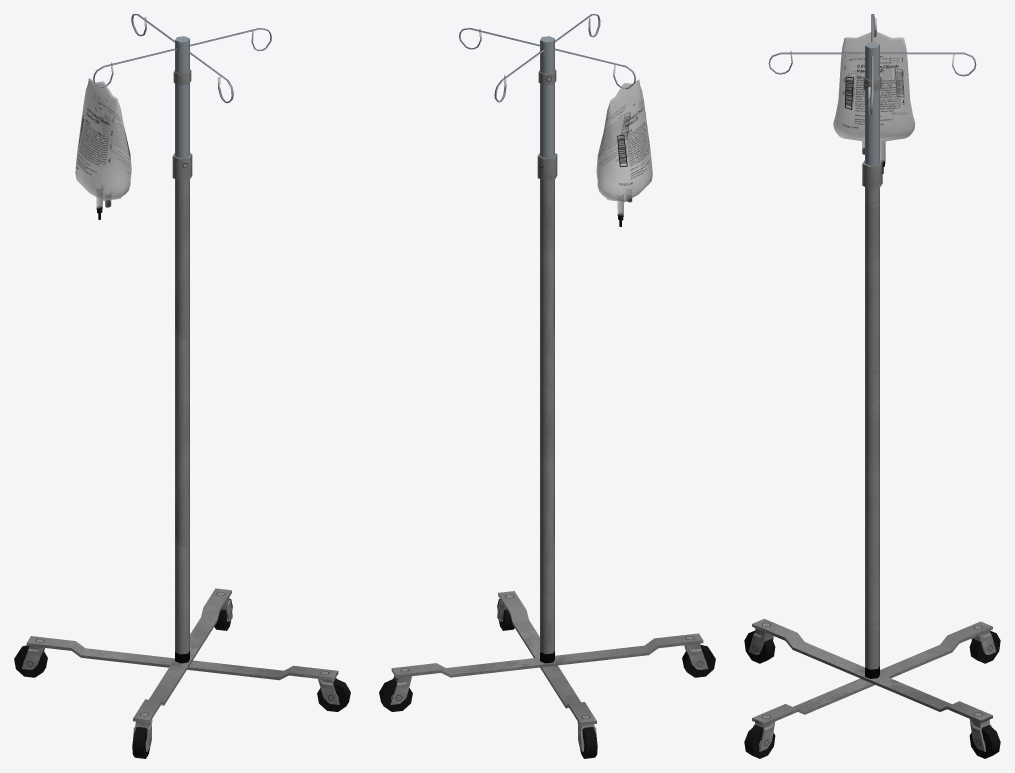
File: iv_pole.glb
3 renders of one model, left to right at view 1: azimuth 30°, elevation 25°; view 2: azimuth 150°, elevation 25°; view 3: azimuth 270°, elevation 25°, orthographic.
Visible parts, largest first — view 1: IV_Pole_Soro_Centralizado; view 2: IV_Pole_Soro_Centralizado; view 3: IV_Pole_Soro_Centralizado.
Part boxes in pixels (bbox=[...]): IV_Pole_Soro_Centralizado: bbox=[14, 14, 350, 758]; IV_Pole_Soro_Centralizado: bbox=[379, 14, 715, 758]; IV_Pole_Soro_Centralizado: bbox=[744, 14, 1000, 758].
Bounding box in the file's own units: 4.18 × 11.92 × 4.18.
Materials: 1 (1 with a texture image).
